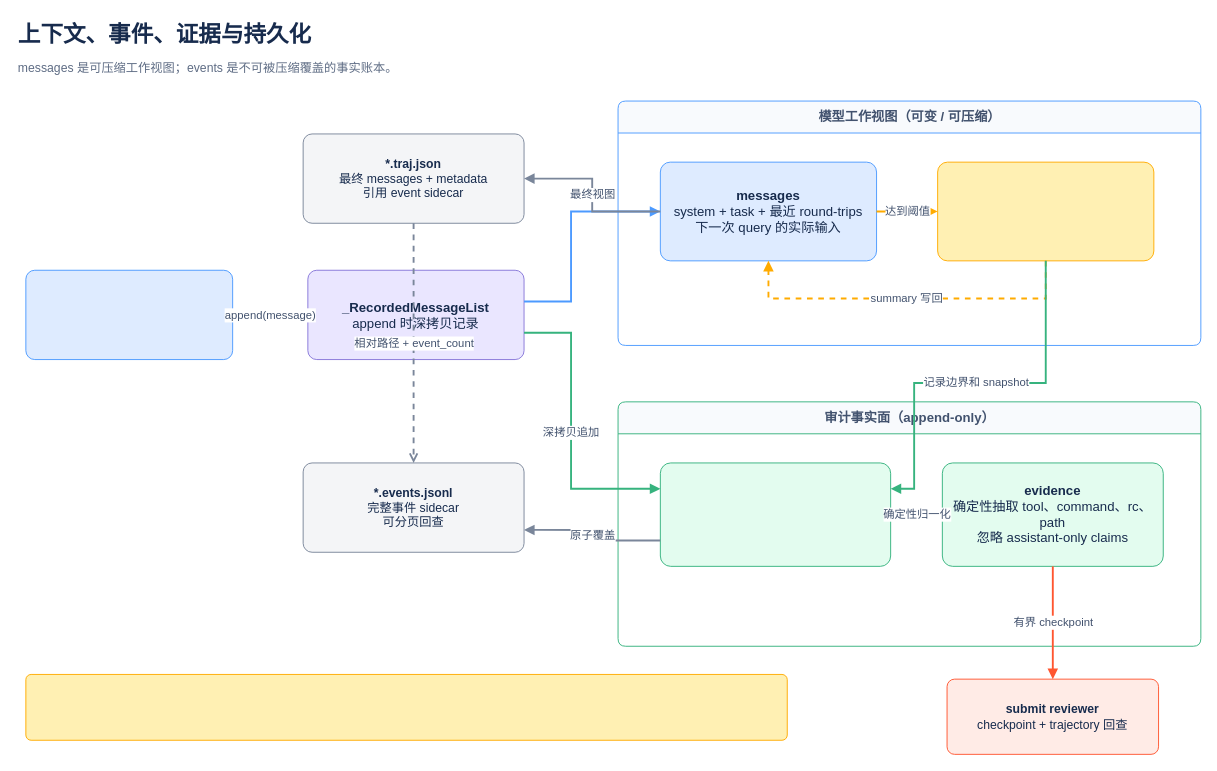
The diagram is 1217 pixels wide and 771 high, and some of its shapes have lost their labels. Each missing label, with the centre of its shape:
"Agent 运行时 模型响应 · 工具结果 · 控制边界" belongs at (x=129, y=314).
"context compression 旧历史 → summary 保留最近完整 round-trips" belongs at (x=1045, y=211).
"events message / compression / review 边界 递增 sequence，不因压缩删除" belongs at (x=775, y=514).
"信任边界： assistant 文本和 summary 是声明；工具结果、return code、文件操作与 harness report 才能独立核对。" belongs at (x=406, y=707).
